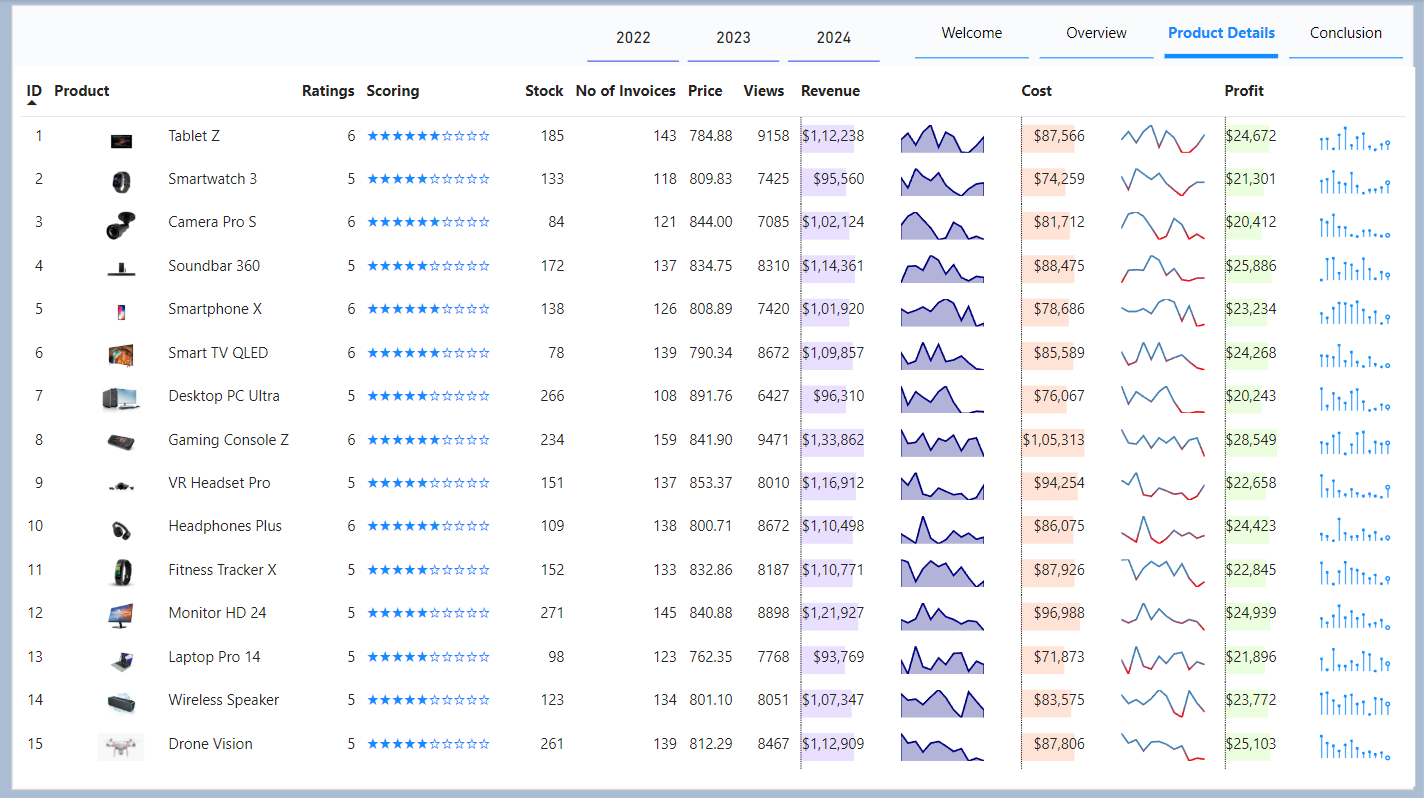

This screenshot's page, from the dashboard's own definition file:
{"tool":"powerbi","page":{"name":"Product Details","canvas":[1280,720],"ordinal":2},"visuals":[{"type":"tableEx","fields":{"Values":["dimProduct.Product ID","dimProduct.product_stock_table.Img","dimProduct.Product","All Measures.Avg Ratings","All Measures.Scoring","dimProduct.product_stock_table.Stock Quantity","All Measures.No of Invoices","Avg(factSalesData.Sales Amount (USD))","All Measures.Views","All Measures.Revenue","All Measures.Revenue Sparkline","All Measures.Cost"]},"box":[13.6,60.7,1257.7,646.2],"z":0},{"type":"advancedSlicerVisual","fields":{"Values":["Calendar.Date.Variation.Date Hierarchy.Year"]},"box":[523,6.3,272.8,55.1],"z":1000},{"type":"pageNavigator","box":[822.1,6.1,438,47.9],"z":2000}]}

Visuals, with their boxes in screenshot pixels (x1, y1, x2, y2), scaled from the page's 1280x720 canvas onto the 1424x798 screenshot:
tableEx - dimProduct.Product ID x dimProduct.product_stock_table.Img: <region>15, 67, 1414, 783</region>
advancedSlicerVisual - Calendar.Date.Variation.Date Hierarchy.Year: <region>582, 7, 885, 68</region>
pageNavigator: <region>915, 7, 1402, 60</region>
